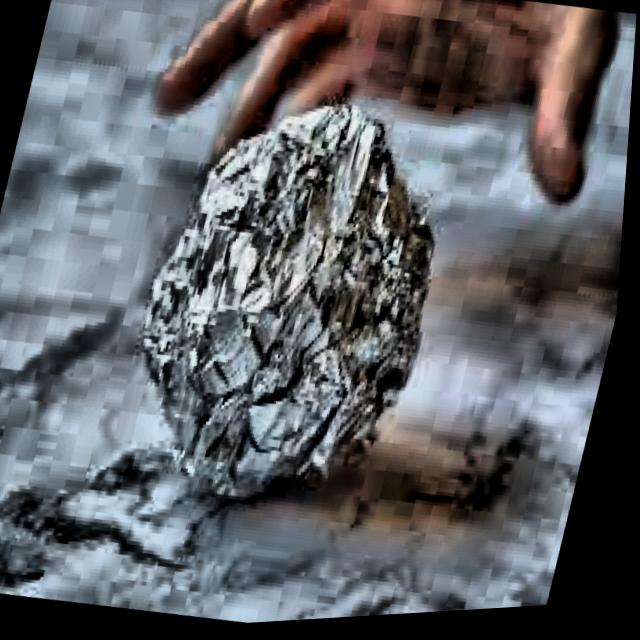Foil: (97, 60, 491, 555)
